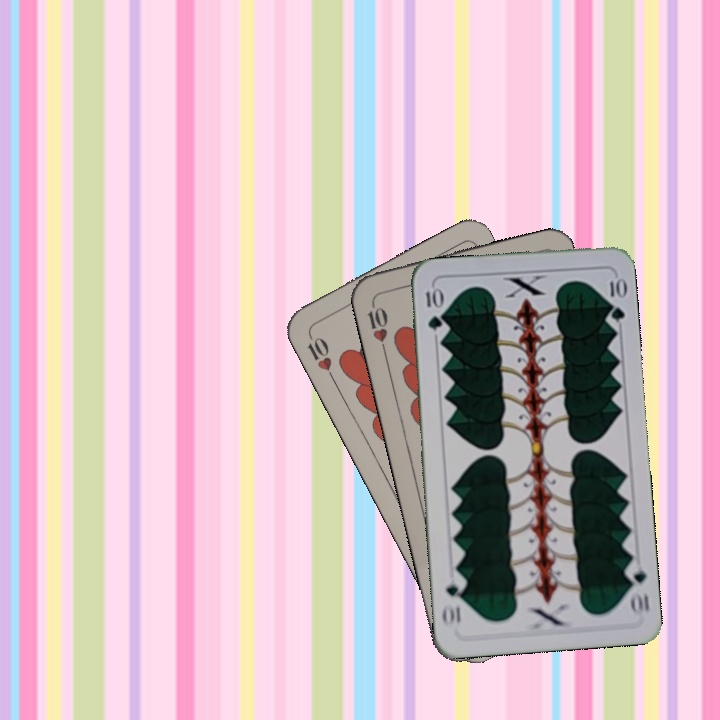G10: (622, 559, 652, 618), (422, 283, 444, 333)
H10: (303, 329, 338, 384), (362, 296, 391, 355)
